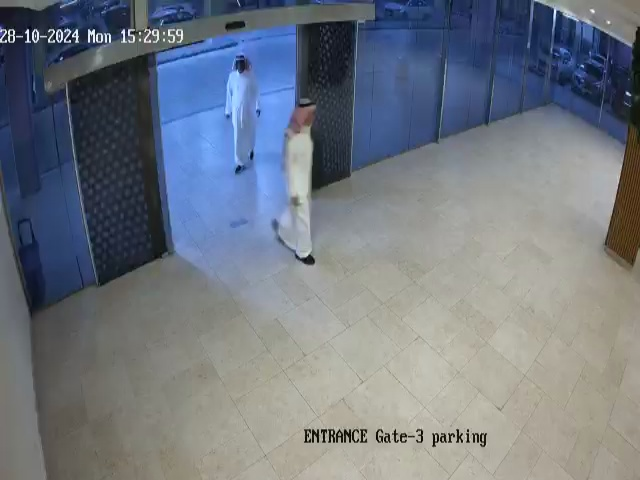male: (271, 97, 317, 265), (225, 54, 261, 175)
